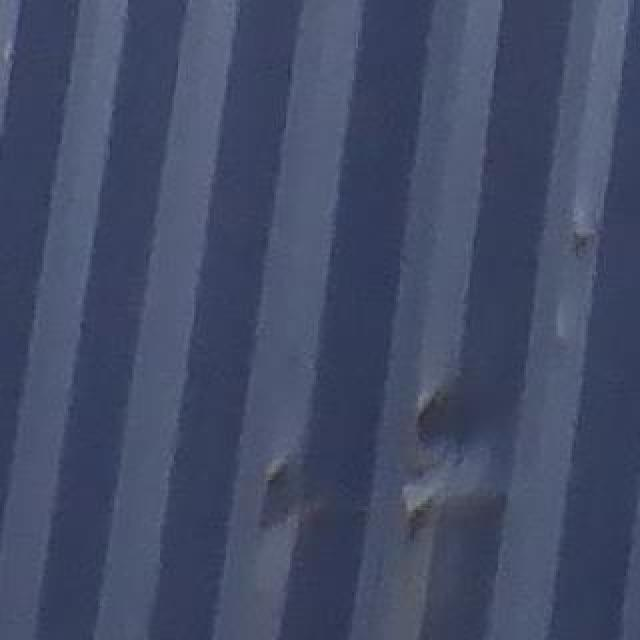dent: (359, 387, 529, 531)
